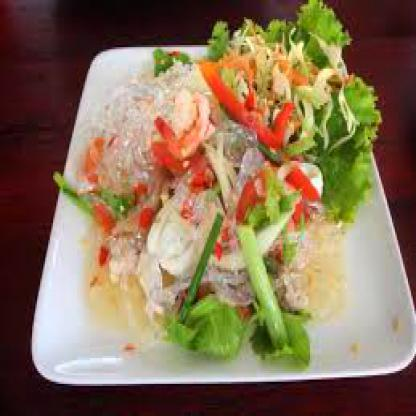Yum: (53, 9, 381, 405)
